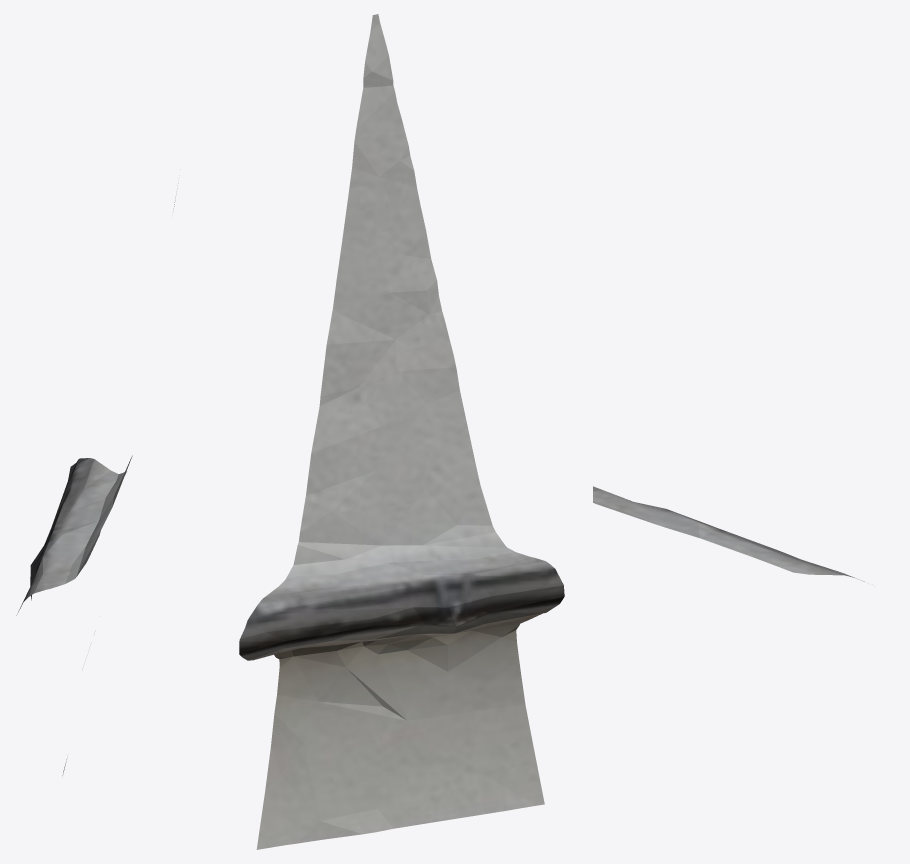
3 renders of one model, left to right at view 1: azimuth 30°, elevation 25°; view 2: azimuth 150°, elevation 25°; view 3: azimuth 270°, elevation 25°, orthographic. The views are drawn at different scales.
Size of the model in its own units: 0.2213 by 0.8374 by 0.2755.
1 material, 1 textured.
